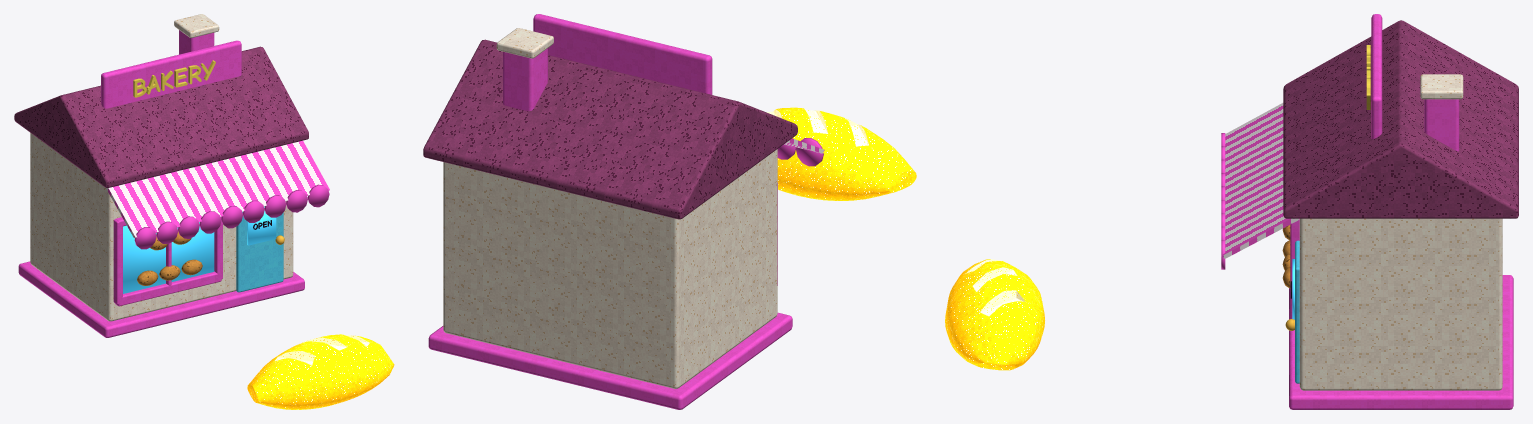
The model's file is x_bgn_bakery.glb.
The picture shows the model from 3 angles, left to right: view 1: azimuth 30°, elevation 25°; view 2: azimuth 150°, elevation 25°; view 3: azimuth 270°, elevation 25°; orthographic projection. The views are drawn at different scales.
Visible parts, largest first — view 1: stall, bread; view 2: stall, bread; view 3: stall, bread.
Boxes of the visible parts, left/top/right/bottom form: stall: left=14, top=14, right=329, bottom=337; bread: left=247, top=334, right=394, bottom=409; stall: left=423, top=14, right=824, bottom=409; bread: left=766, top=107, right=916, bottom=200; stall: left=1221, top=14, right=1518, bottom=409; bread: left=945, top=259, right=1044, bottom=370.
Bounding box in the file's own units: 2.2 × 2.44 × 4.24.
Materials: 12 (10 with a texture image).
